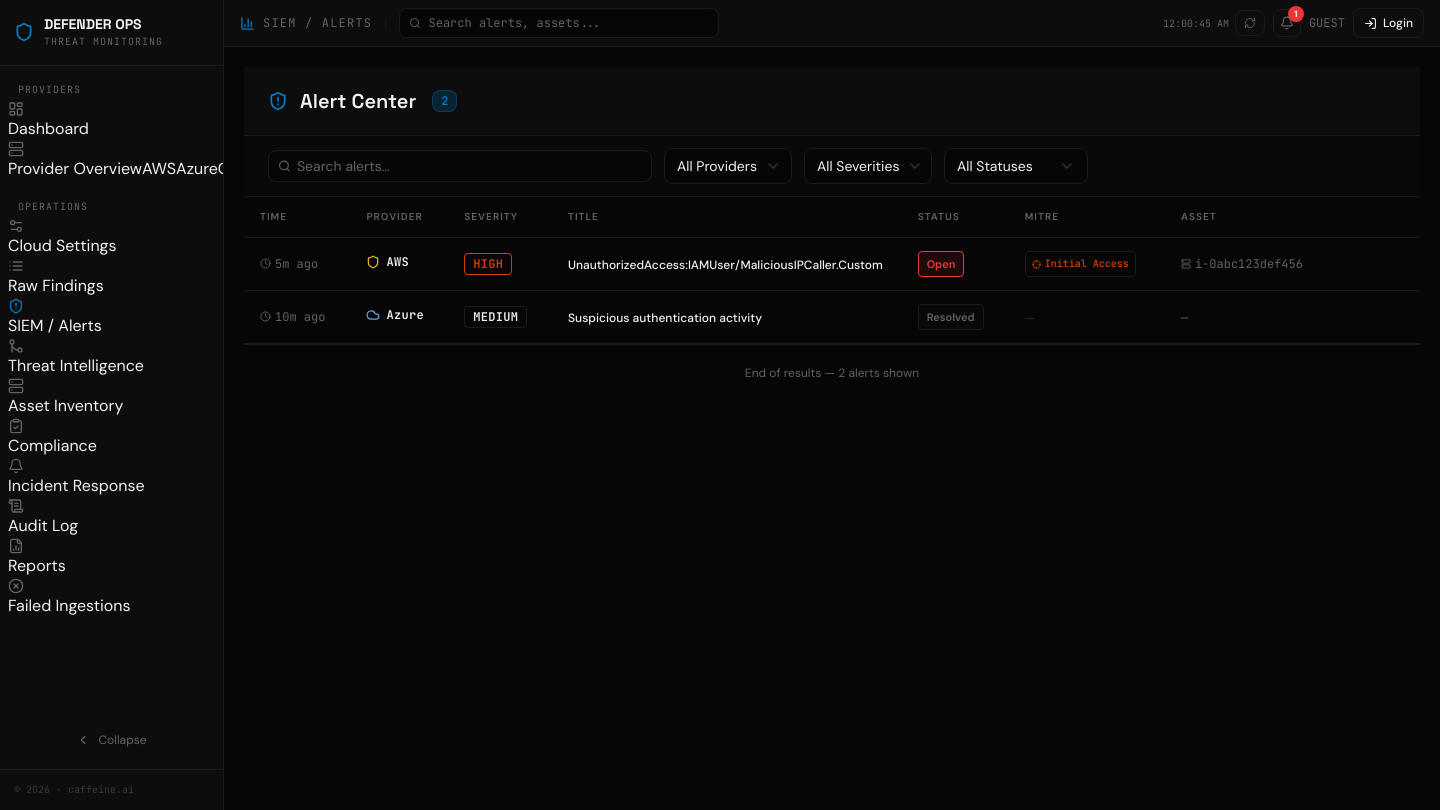
Test: AlertsPage (characterize) › opens the detail panel showing enrichment, status changer, and owner field
Click the row with test id "alerts.item.1". click: (832, 264)
box: top-left (244, 238), bottom-right (1420, 290)
(page scrolled)
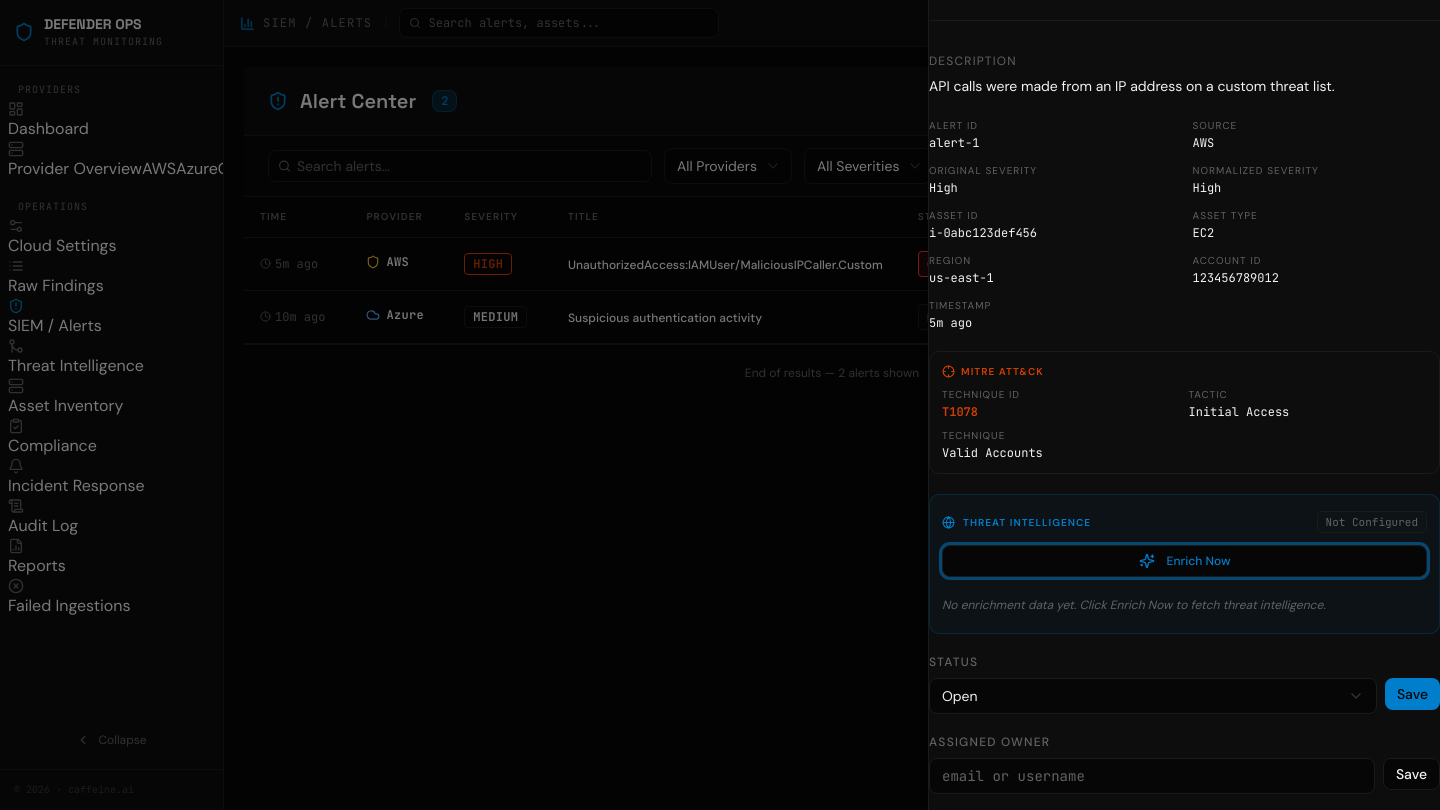
Check: the dialog with test id "alert.detail.sheet" is shown, box top-left (928, 0), bottom-right (1439, 809)
Check: the element with test id "alert.enrichment.section" is shown, box top-left (929, 494), bottom-right (1439, 634)
Check: the button with test id "alert.enrich_now_button" is shown, box top-left (942, 545), bottom-right (1427, 577)
